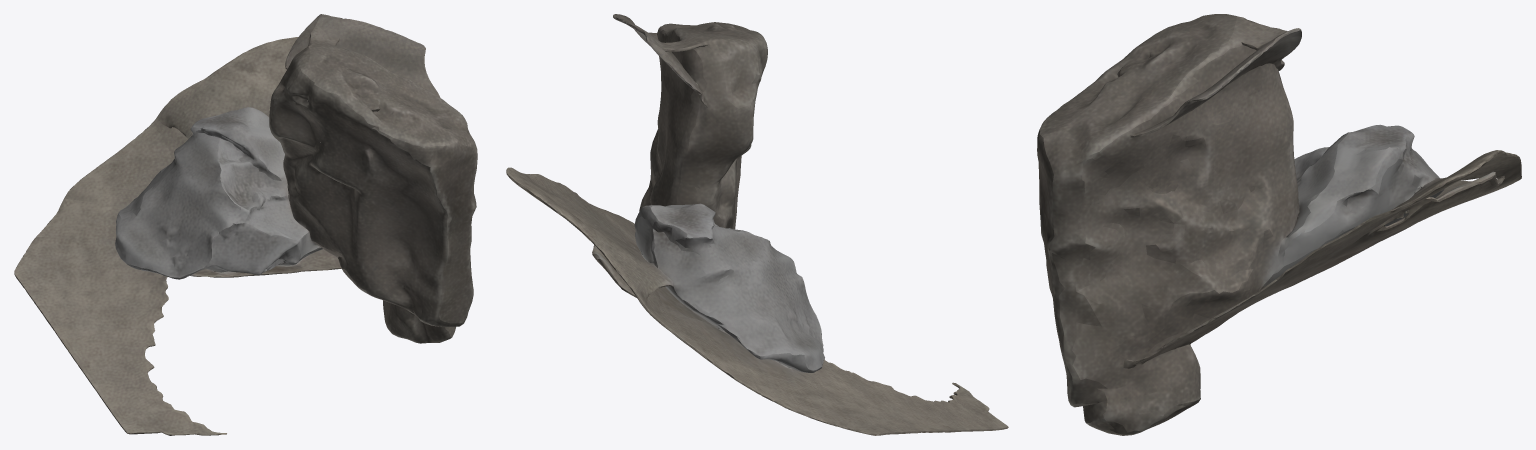
Rendered from tex_mesh.glb.
3 views of the same model, side by side, from view 1: azimuth 30°, elevation 25°; view 2: azimuth 150°, elevation 25°; view 3: azimuth 270°, elevation 25° (orthographic). The views are drawn at different scales.
Parts seen in each view (by area): view 1: world; view 2: world; view 3: world.
Boxes of the visible parts, <box> form: world: <box>14,14,477,435</box>; world: <box>506,14,1008,435</box>; world: <box>1037,14,1521,435</box>.
Size of the model in its own units: 1.59 by 1.5 by 1.59.
Materials: 1 (1 with a texture image).
